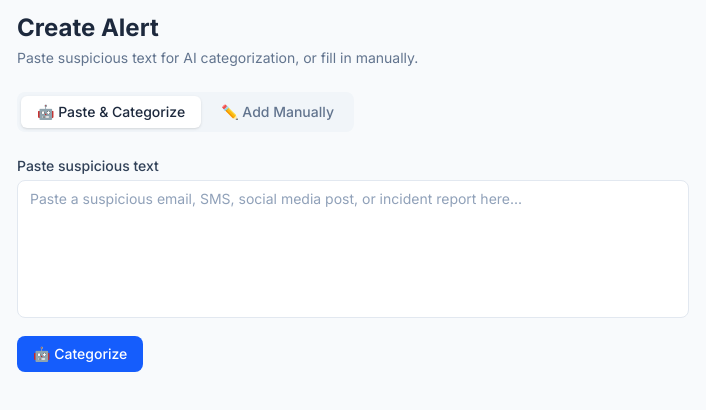
Edge Cases — Validation › shows error when paste tab submitted with empty text
Stay on paste tab, click categorize without text
Step 1. Click the button "🤖 Categorize" → (80, 354), box [17,336,143,372]
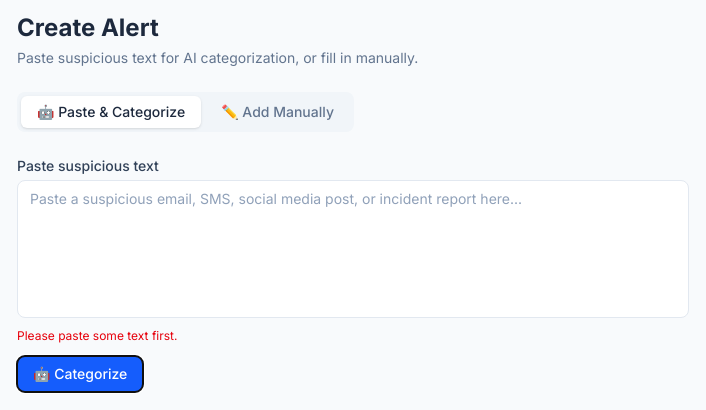
Result: the text "Please paste some text first." is shown at [17,328,178,343]
